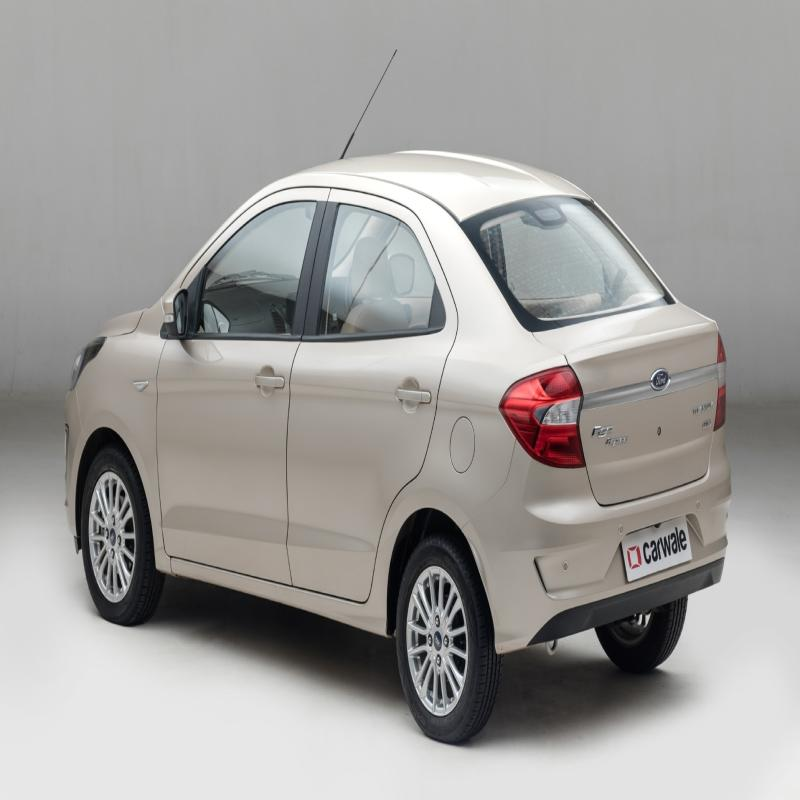car: (39, 132, 754, 752)
